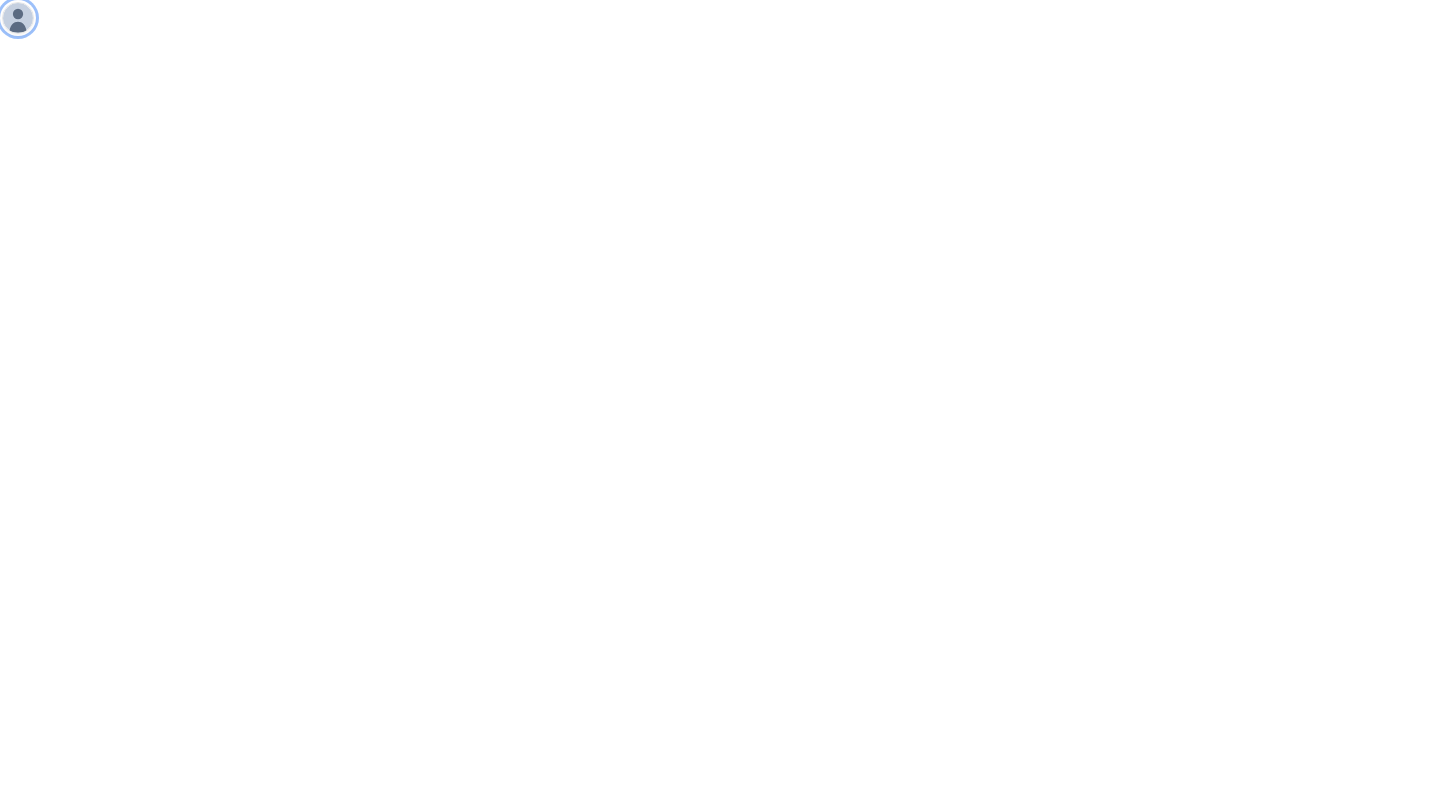
真实头像入口与设置弹窗的焦点交接 › 头像入口打开设置，关闭后焦点返回入口
Press Enter
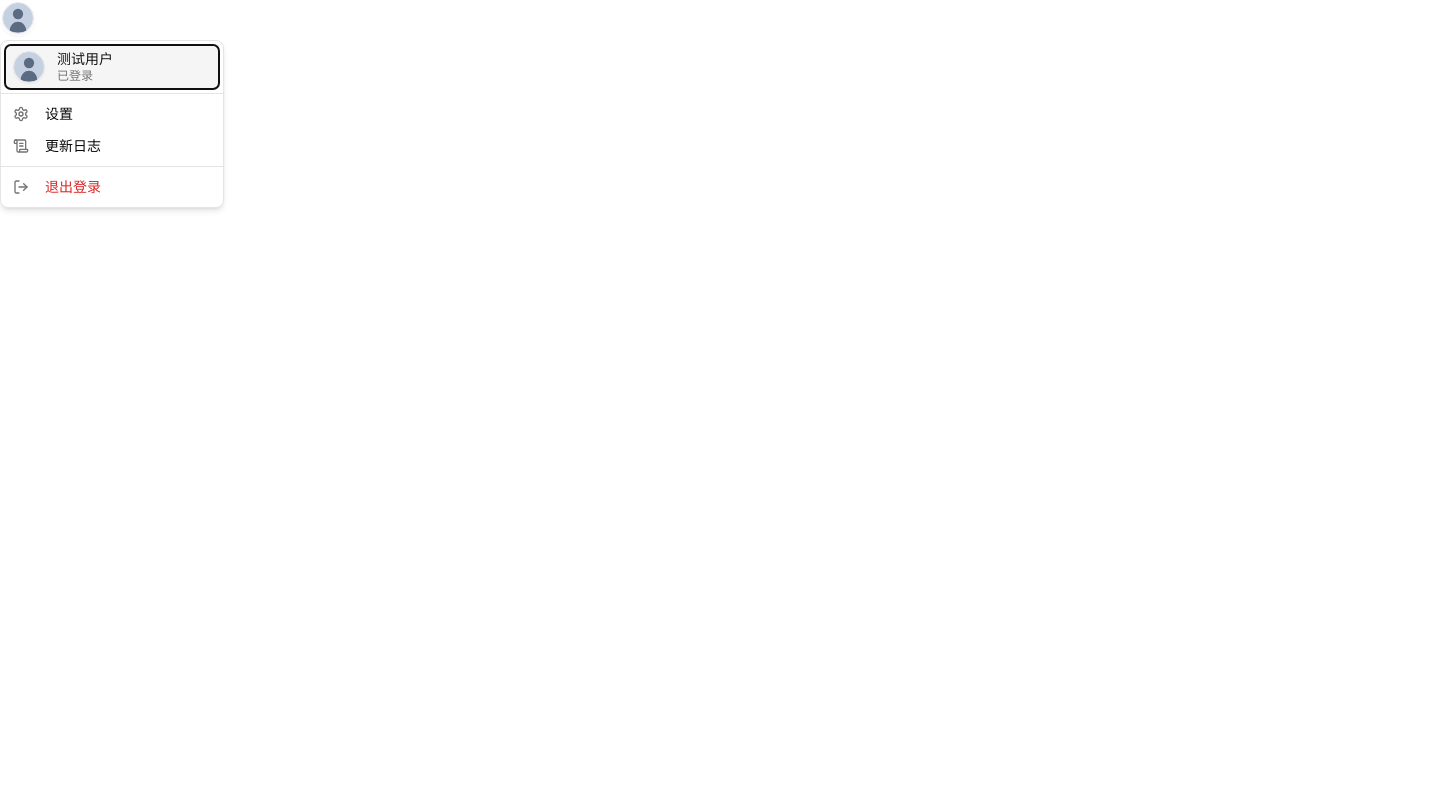
Click the menu item "设置" at (43, 114), box [13,104,73,123]
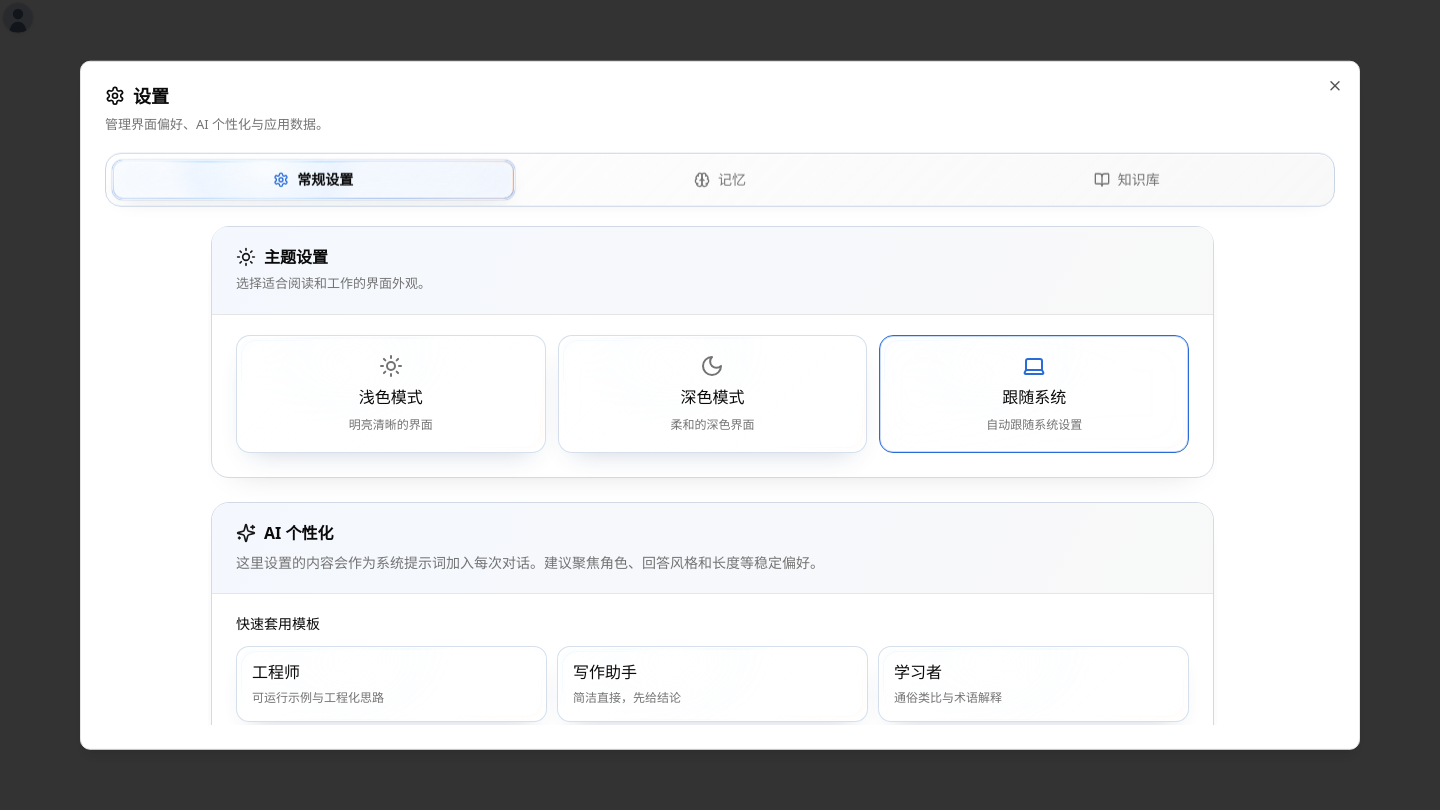
Press Escape
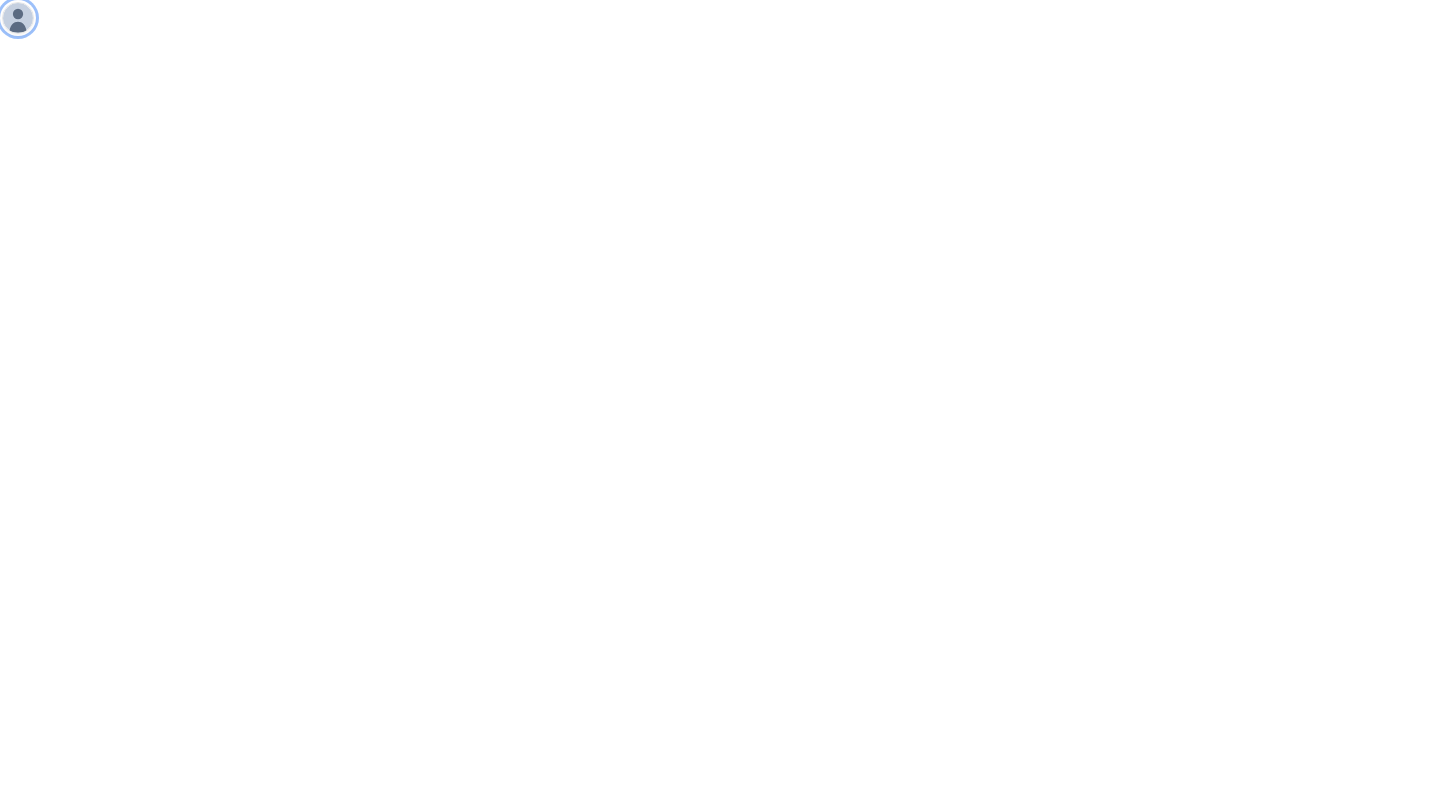
Expected: the heading "设置" is gone
